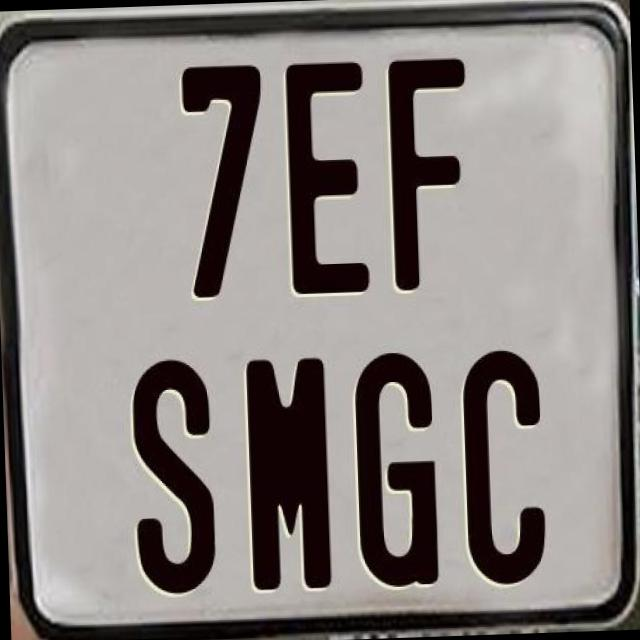7: (180, 62, 272, 300)
C: (457, 349, 543, 591)
E: (283, 60, 376, 298)
F: (386, 56, 476, 298)
G: (353, 349, 443, 592)
M: (240, 353, 334, 588)
S: (130, 355, 222, 597)
